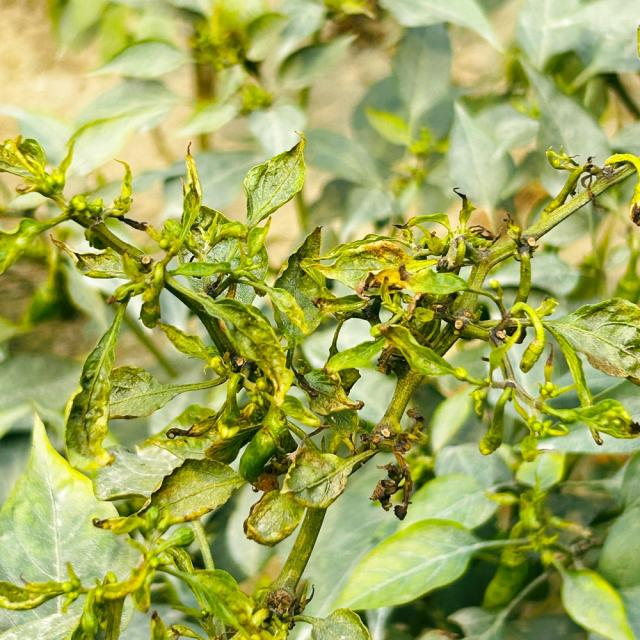Chilli_Leaf_Curl: (1, 125, 638, 637), (92, 456, 247, 540), (540, 296, 638, 386), (241, 130, 307, 229)
